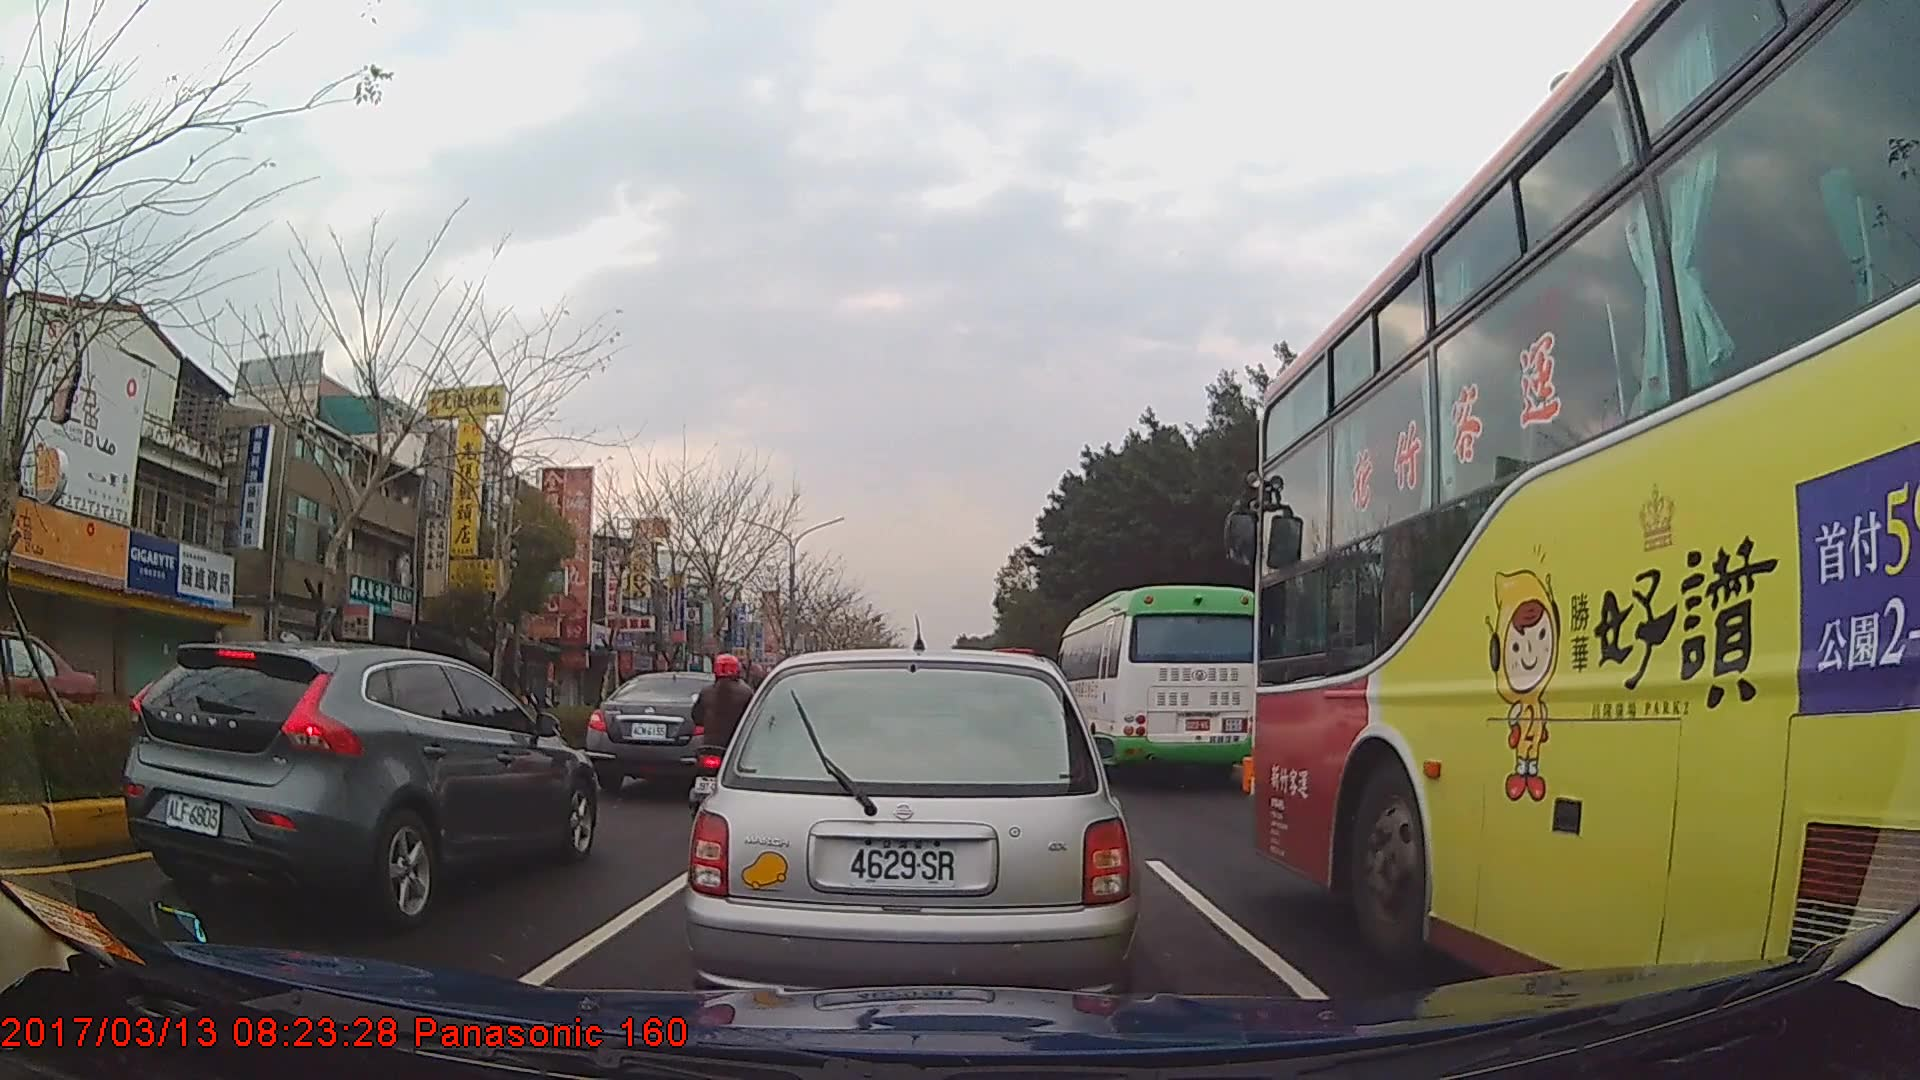rider: (688, 651, 767, 829)
vehicle: (1250, 0, 1920, 1001), (685, 642, 1138, 1014), (119, 639, 598, 931), (1054, 584, 1261, 783), (587, 669, 760, 793), (0, 629, 97, 752)
